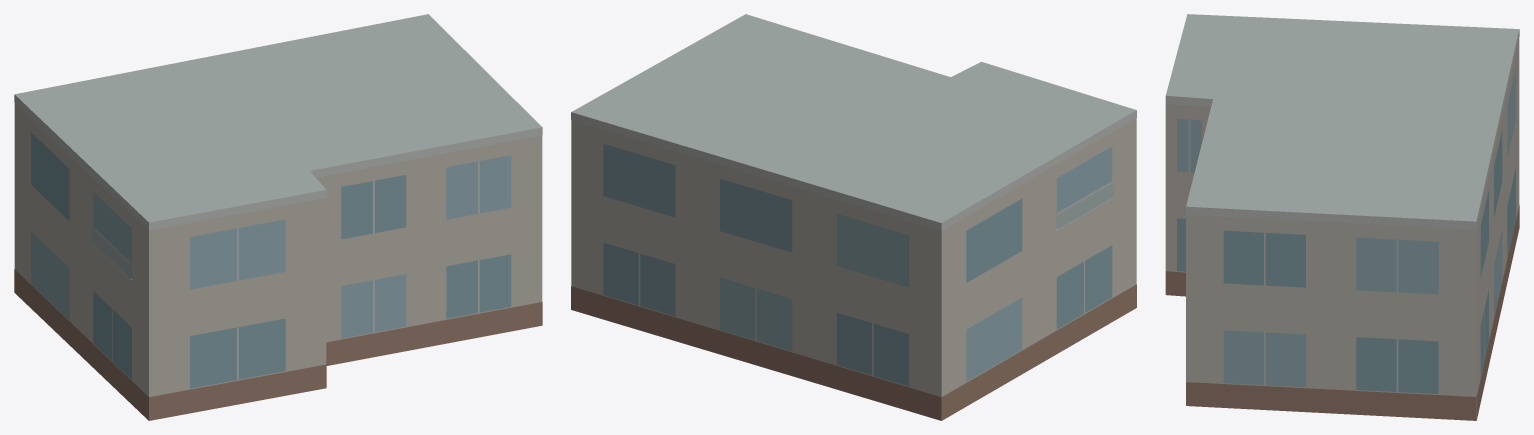
The model's file is survey-upis-32548286.glb.
3 renders of one model, left to right at view 1: azimuth 30°, elevation 25°; view 2: azimuth 150°, elevation 25°; view 3: azimuth 270°, elevation 25°, orthographic.
Visible parts, largest first — view 1: survey-upis-32548286.tmp; view 2: survey-upis-32548286.tmp; view 3: survey-upis-32548286.tmp.
Boxes of the visible parts, left/top/right/bottom form: survey-upis-32548286.tmp: left=14, top=14, right=542, bottom=420; survey-upis-32548286.tmp: left=571, top=14, right=1136, bottom=420; survey-upis-32548286.tmp: left=1165, top=14, right=1519, bottom=420.
Bounding box in the file's own units: 13.64 × 6.1 × 9.82.
